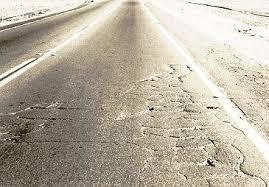alligator-crack: (121, 49, 264, 186), (140, 72, 252, 182), (0, 97, 73, 158)
crack: (72, 133, 119, 153), (76, 101, 118, 123)
